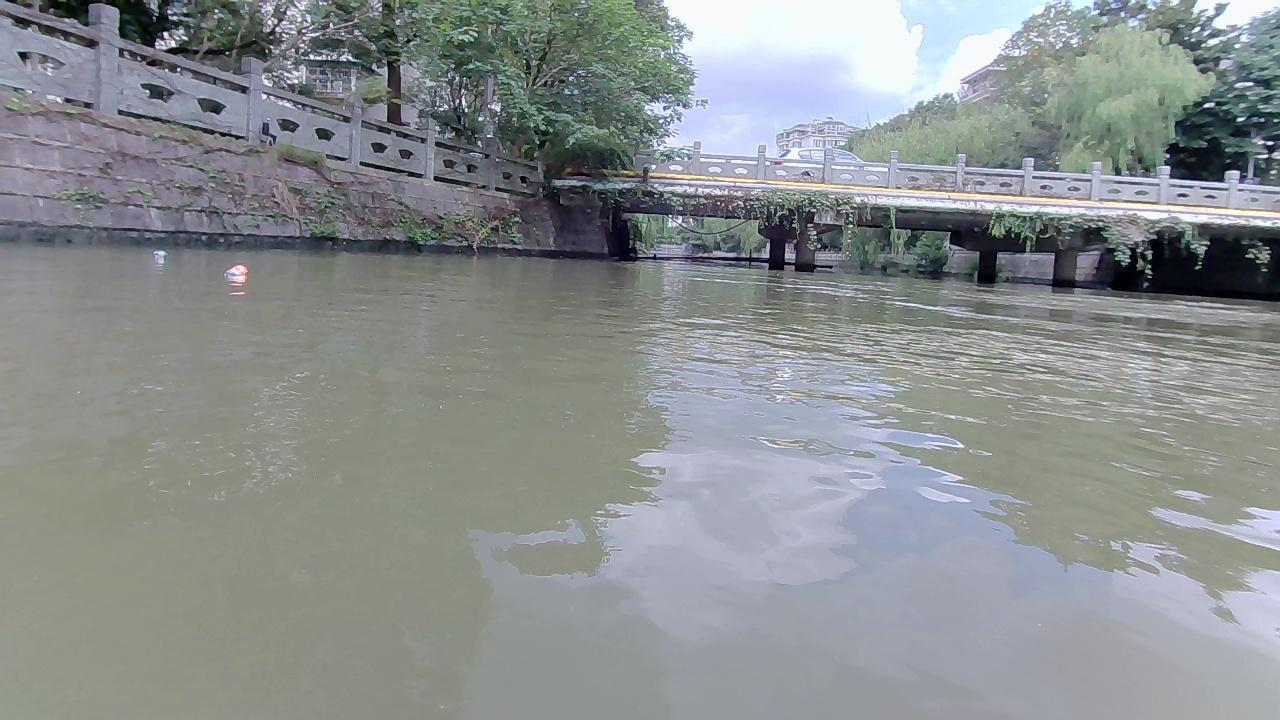bottle: (222, 263, 248, 275), (152, 249, 166, 256)
